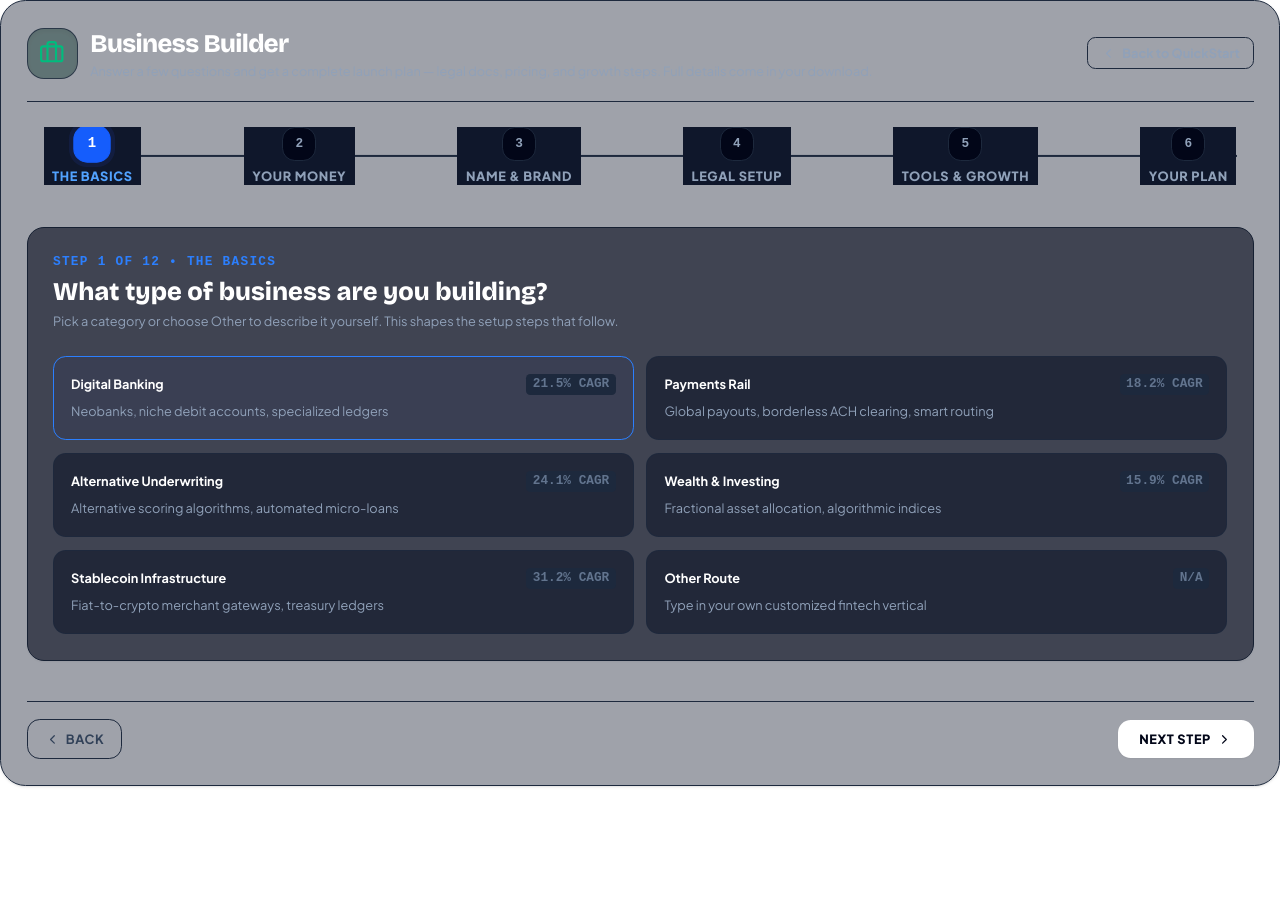
FintechBusinessBuilder › navigates forward with Next button
Click the button "Next Step".
click(1186, 739)  # box [1118, 720, 1254, 758]
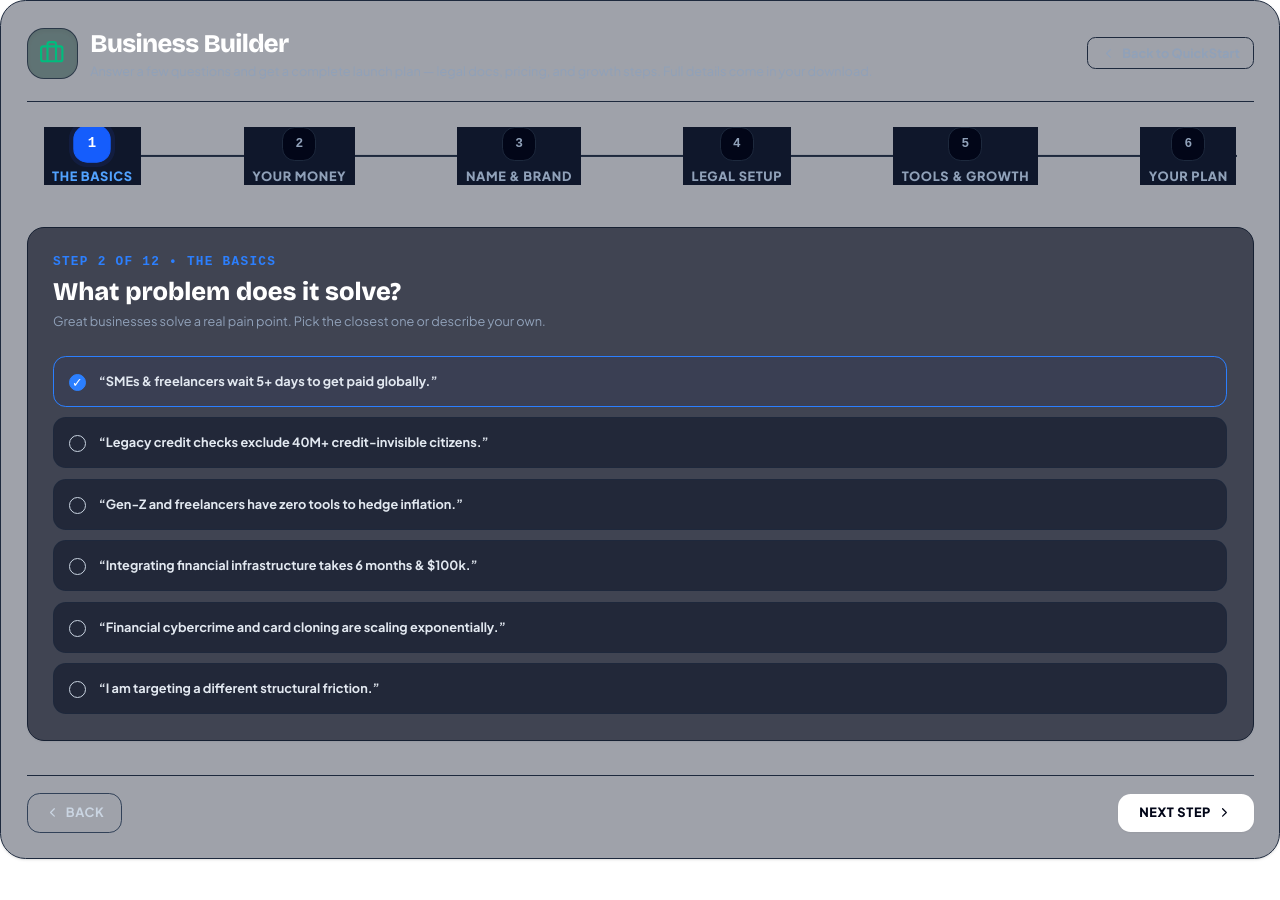
Result: the heading "What problem does it solve?" is shown at [53, 276, 401, 307]
